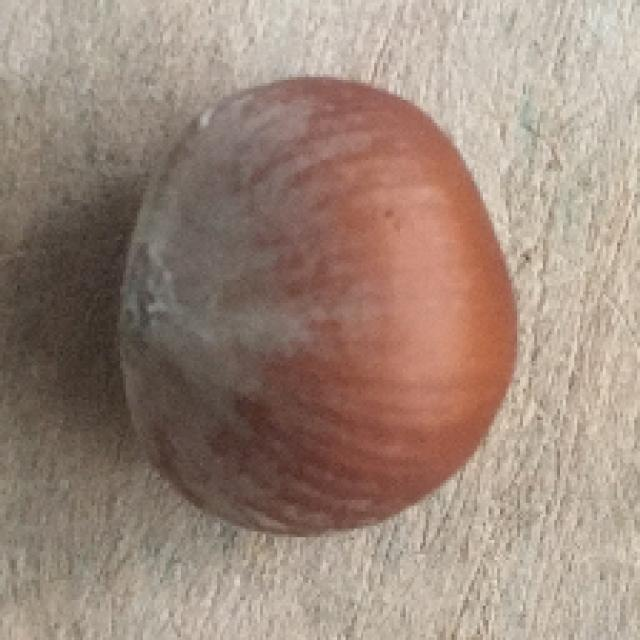qualityHazelnut: (119, 70, 524, 537)
